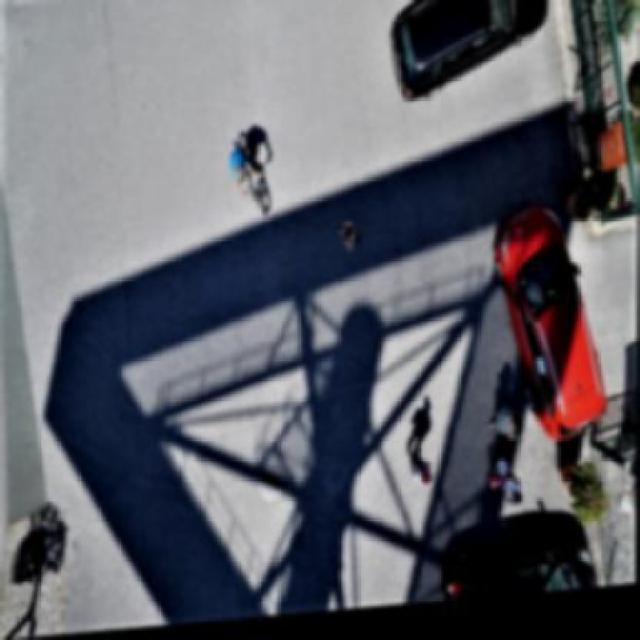Person: (482, 471, 535, 518), (226, 148, 266, 202), (406, 453, 449, 501), (487, 413, 536, 450), (336, 216, 364, 258)
